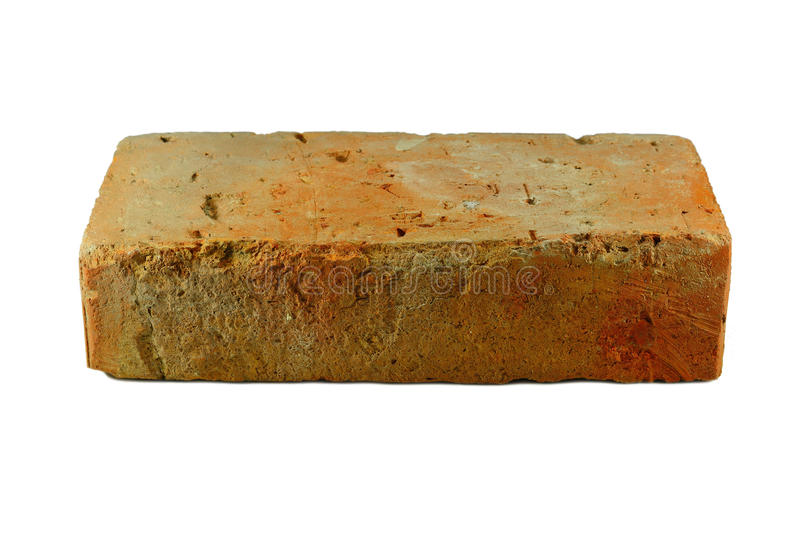brick: (96, 199, 722, 379)
